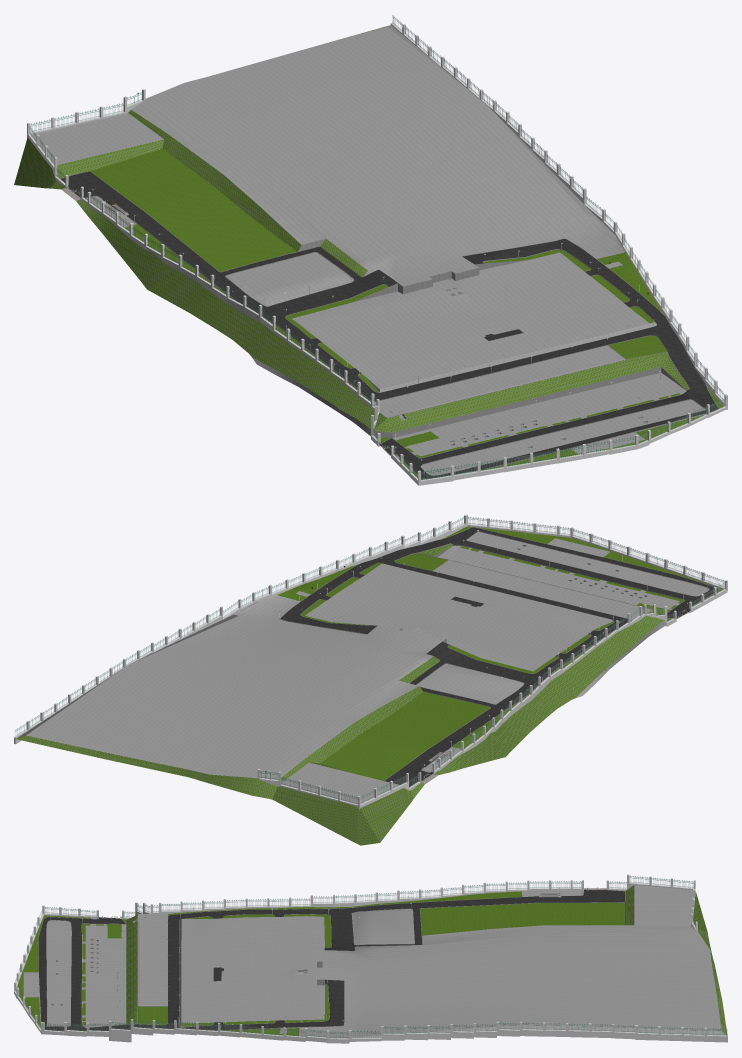
The picture shows the model from 3 angles, top to bottom: view 1: azimuth 30°, elevation 25°; view 2: azimuth 150°, elevation 25°; view 3: azimuth 270°, elevation 25°; orthographic projection. The views are drawn at different scales.
Parts seen in each view (by area): view 1: CJ-DJ001带透明通道, CJ-HSML, 围墙带透明通道; view 2: CJ-DJ001带透明通道, CJ-HSML, 围墙带透明通道; view 3: CJ-DJ001带透明通道, 围墙带透明通道, CJ-HSML.
Boxes of the visible parts, x1=… form: CJ-DJ001带透明通道: x1=14, y1=25, x2=723, y2=479; CJ-HSML: x1=60, y1=171, x2=719, y2=479; 围墙带透明通道: x1=27, y1=15, x2=727, y2=485; CJ-DJ001带透明通道: x1=16, y1=526, x2=722, y2=845; CJ-HSML: x1=280, y1=527, x2=719, y2=787; 围墙带透明通道: x1=14, y1=514, x2=727, y2=811; CJ-DJ001带透明通道: x1=16, y1=885, x2=727, y2=1038; 围墙带透明通道: x1=14, y1=874, x2=727, y2=1043; CJ-HSML: x1=38, y1=889, x2=625, y2=1031.
Size of the model in its own units: 413 by 58.97 by 783.
31 materials, 12 textured.
